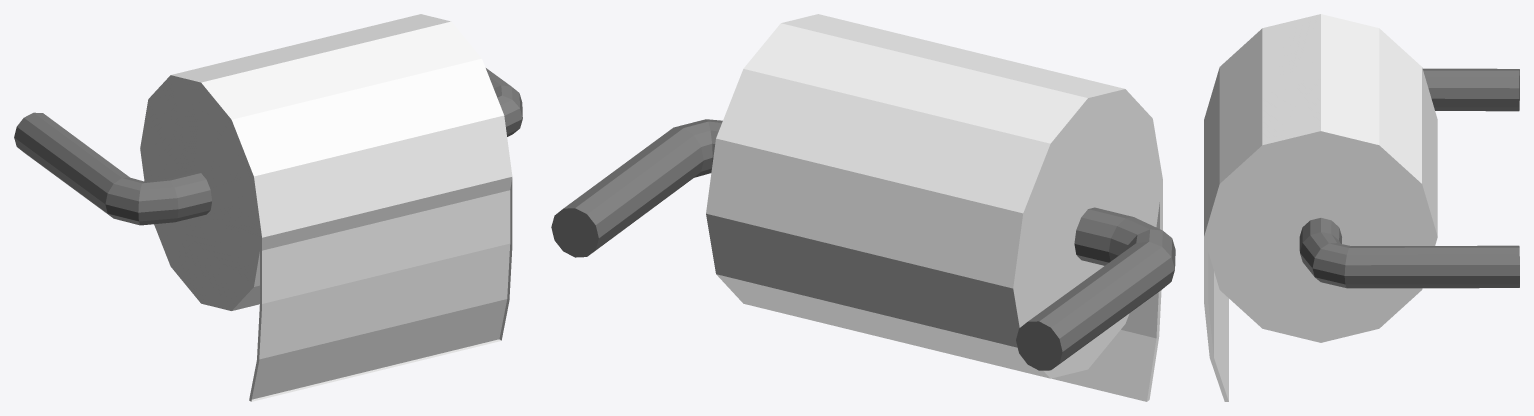
File: jamirullateline1.fbx
The picture shows the model from 3 angles, left to right: view 1: azimuth 30°, elevation 25°; view 2: azimuth 150°, elevation 25°; view 3: azimuth 270°, elevation 25°; orthographic projection. The views are drawn at different scales.
Parts seen in each view (by area): view 1: Cube; view 2: Cube; view 3: Cube.
Boxes of the visible parts, x1,y1,x2,y2 form: Cube: (14, 14, 522, 401); Cube: (551, 14, 1175, 401); Cube: (1204, 14, 1519, 401).
Size of the model in its own units: 3.95 by 2.7 by 2.56.
